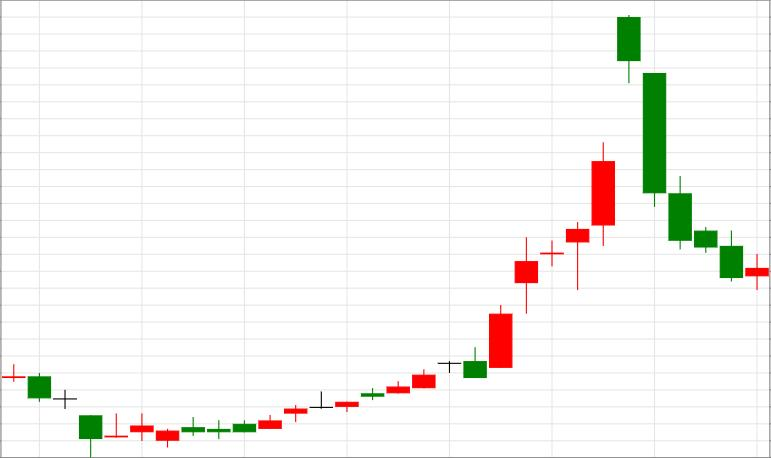three_black_crows_fall: (490, 16, 692, 369)
